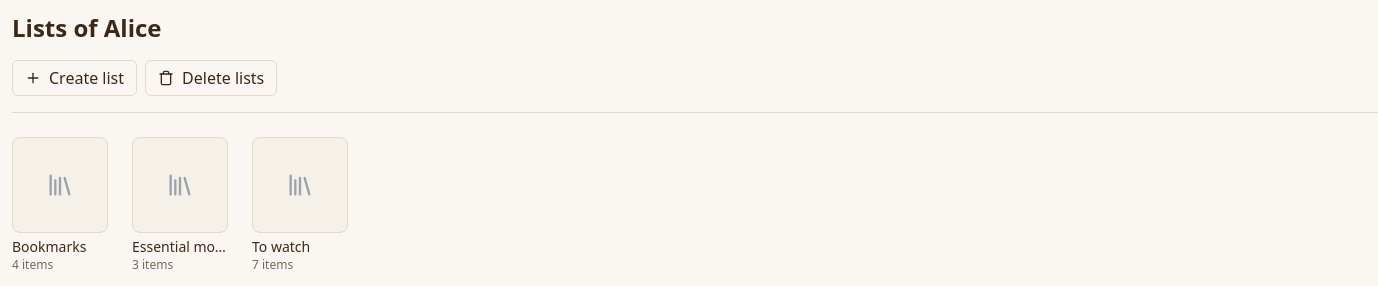
Test case: ListsManager › counts the selected lists in the button label
The image size is (1378, 286).
Click the button with test id "start-delete-lists-button": (211, 78) [145, 60, 277, 96]
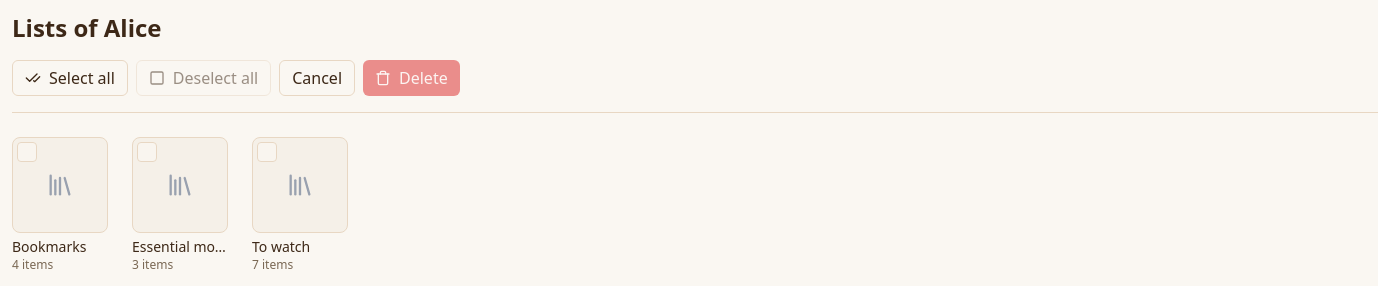
Expected: the button with test id "confirm-delete-lists-button" reads "Delete", [363, 60, 460, 96]
Click the button with test id "media-list-button": (60, 185) [12, 137, 108, 233]
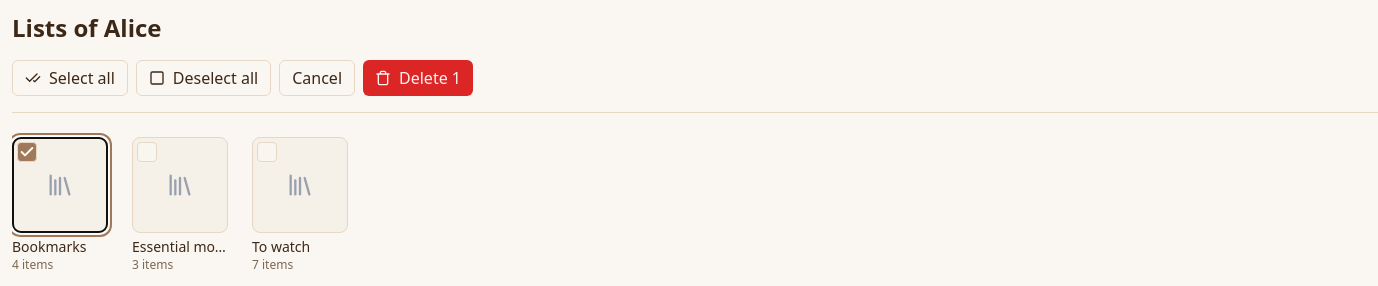
Now the button with test id "confirm-delete-lists-button" reads "Delete 1", box [363, 60, 473, 96]
Click the button with test id "media-list-button": (180, 185) [132, 137, 228, 233]
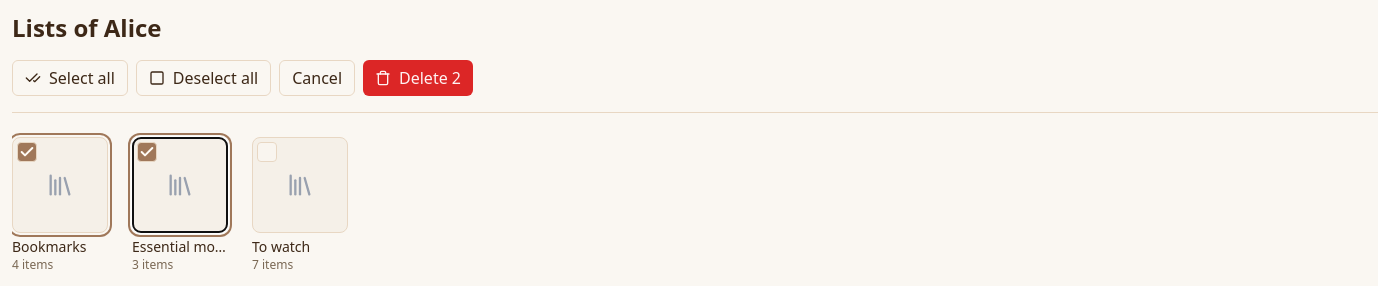
Now the button with test id "confirm-delete-lists-button" reads "Delete 2", box [363, 60, 473, 96]
